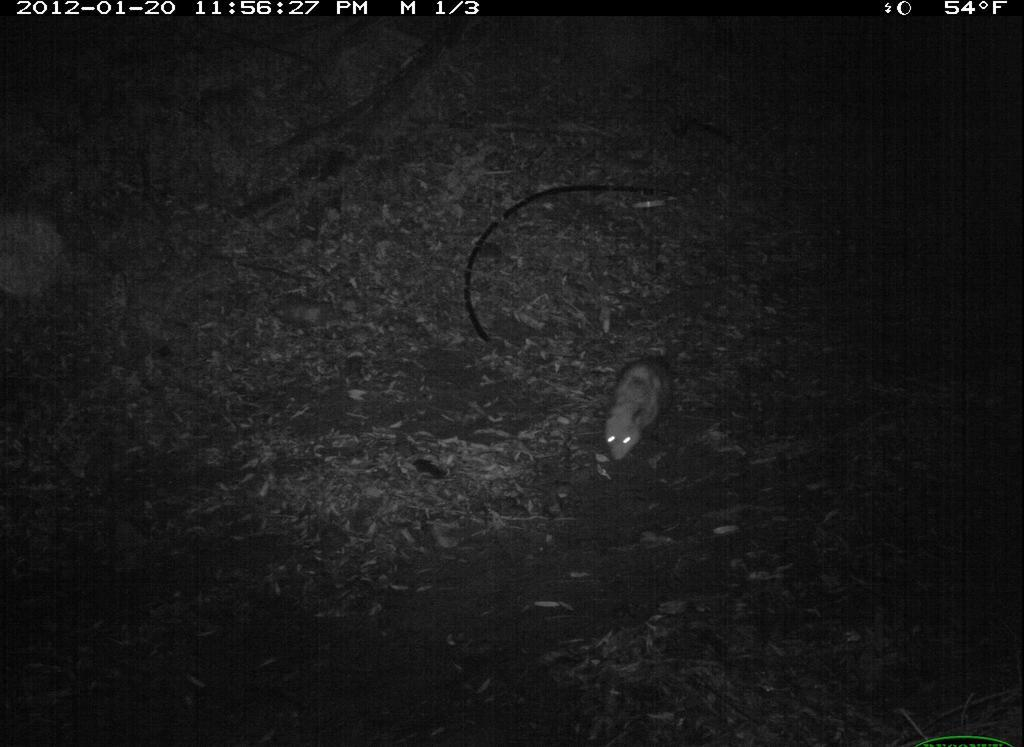opossum: (598, 346, 689, 464)
